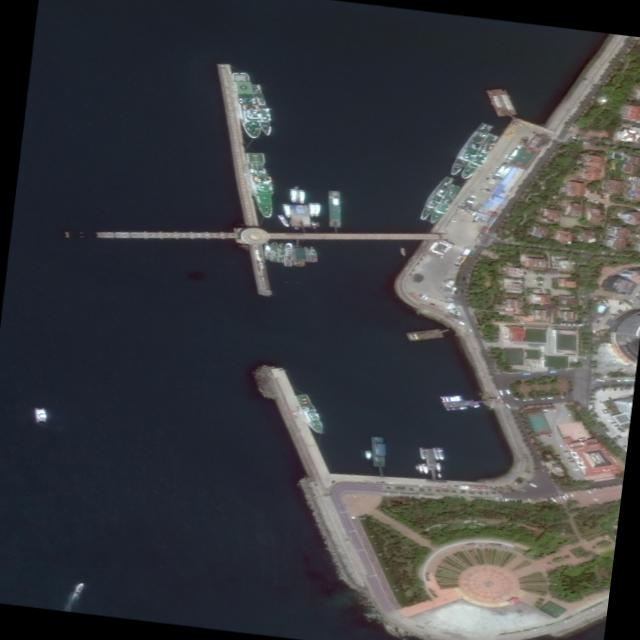ship: (444, 122, 492, 176), (243, 152, 275, 217), (456, 133, 499, 180), (230, 72, 261, 137), (415, 175, 454, 221), (423, 184, 460, 225), (294, 394, 325, 434), (250, 84, 271, 135), (404, 329, 442, 341), (327, 190, 339, 227), (287, 246, 306, 266), (281, 242, 292, 266), (32, 407, 46, 421), (498, 165, 512, 178), (268, 241, 277, 261), (276, 214, 289, 227), (506, 147, 519, 160), (71, 582, 84, 595), (276, 242, 284, 263), (492, 164, 506, 176), (439, 395, 462, 402), (308, 246, 317, 262), (302, 246, 311, 262), (262, 242, 269, 259), (281, 204, 289, 217), (288, 189, 296, 202), (444, 406, 467, 410), (417, 447, 424, 460), (431, 447, 438, 460), (313, 203, 319, 217), (436, 447, 443, 459), (297, 190, 303, 203), (416, 463, 423, 473), (420, 463, 427, 473), (307, 203, 312, 216), (363, 450, 370, 459), (434, 462, 440, 472), (399, 248, 404, 256), (413, 465, 417, 470), (472, 405, 479, 407)
